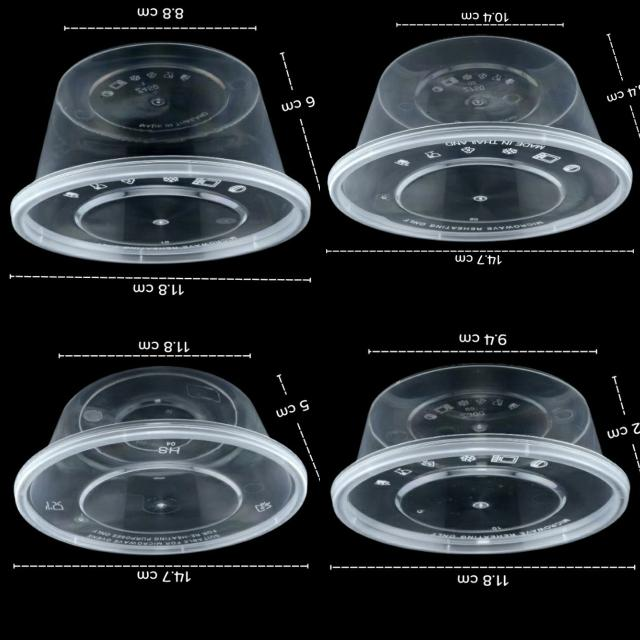Single-Use-Plastic: (11, 42, 310, 262), (328, 36, 632, 241), (331, 365, 630, 553), (15, 366, 306, 554)
